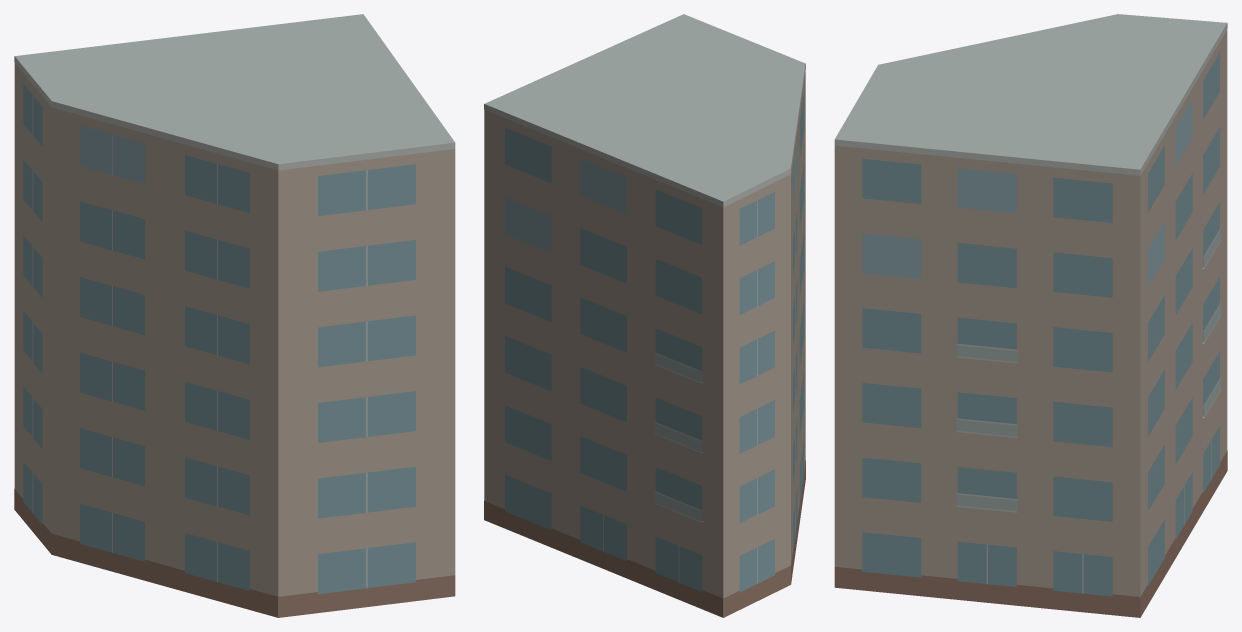
Rendered from survey-upis-32523973.glb.
The picture shows the model from 3 angles, left to right: view 1: azimuth 30°, elevation 25°; view 2: azimuth 150°, elevation 25°; view 3: azimuth 270°, elevation 25°; orthographic projection. The views are drawn at different scales.
Visible parts, largest first — view 1: survey-upis-32523973.tmp; view 2: survey-upis-32523973.tmp; view 3: survey-upis-32523973.tmp.
Boxes of the visible parts, x1=… form: survey-upis-32523973.tmp: x1=14, y1=14, x2=455, y2=617; survey-upis-32523973.tmp: x1=484, y1=14, x2=805, y2=617; survey-upis-32523973.tmp: x1=834, y1=14, x2=1227, y2=617.
Bounding box in the file's own units: 13.12 × 17.6 × 13.99.
